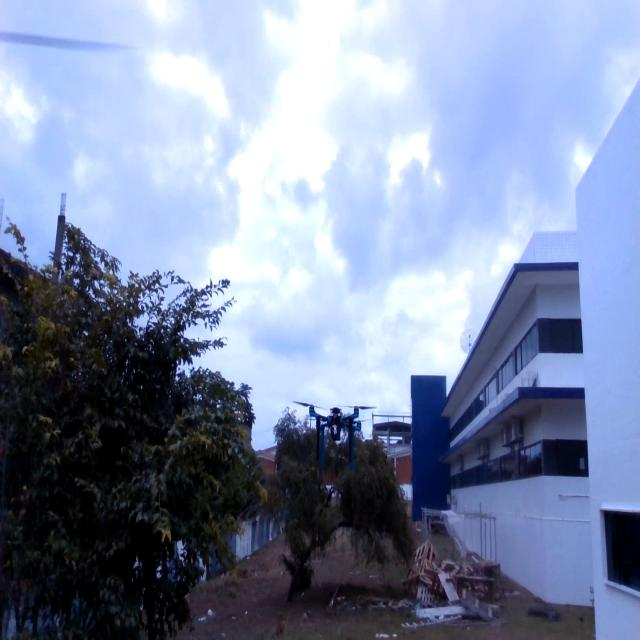-uav-: (293, 384, 377, 474)
